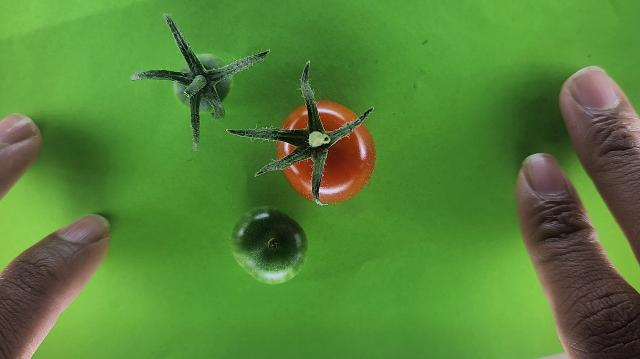Fruit Maturation: (229, 205, 310, 285), (174, 54, 233, 112)
Fully Grown: (275, 99, 378, 205)
